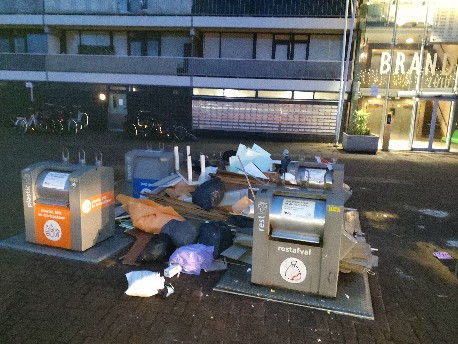Container: (257, 189, 341, 295), (40, 162, 115, 244), (289, 161, 341, 195), (134, 152, 168, 182)
Rest: (209, 144, 272, 210), (115, 192, 195, 241), (181, 151, 220, 201), (190, 173, 229, 221), (173, 245, 218, 275), (123, 269, 166, 299), (345, 209, 365, 272), (202, 208, 231, 251), (132, 231, 171, 261), (166, 213, 198, 248)
